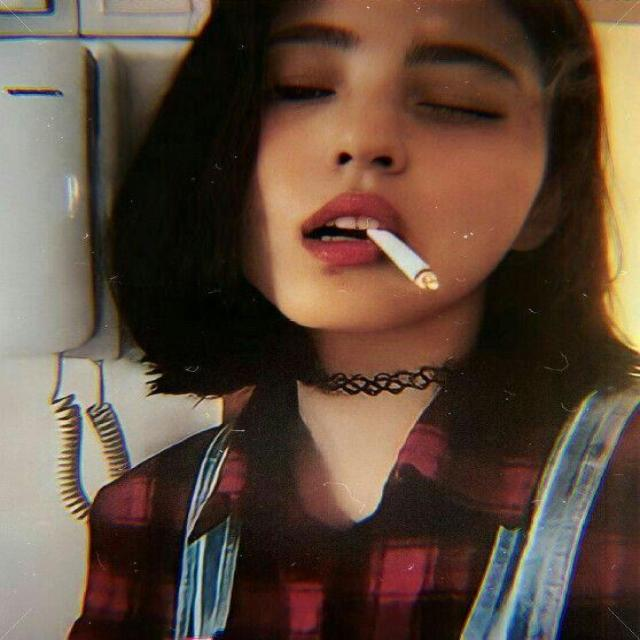cigarette: (346, 224, 440, 316)
